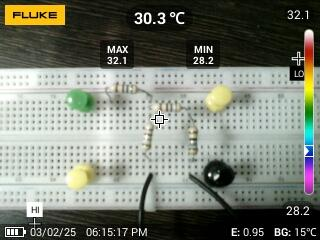resistor: (185, 124, 200, 159), (141, 122, 155, 157), (107, 81, 142, 95), (149, 100, 184, 113)
